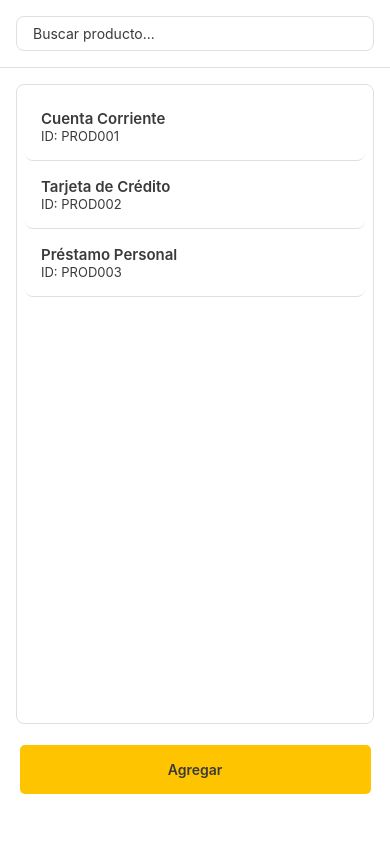
Test: ProductsListScreen › búsqueda de productos › debe ser case-insensitive en búsqueda
expect the text "Cuenta Corriente" is shown: met, box [41, 109, 165, 128]
Type "cuenta" into the field with placeholder "Buscar producto..." at (195, 34), box [16, 16, 374, 51]
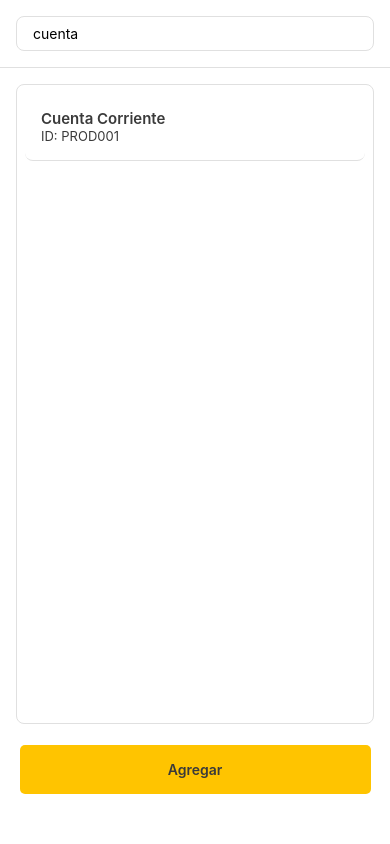
expect the text "Cuenta Corriente" is shown: met, box [41, 109, 165, 128]
expect the text "Tarjeta de Crédito" is gone: met
